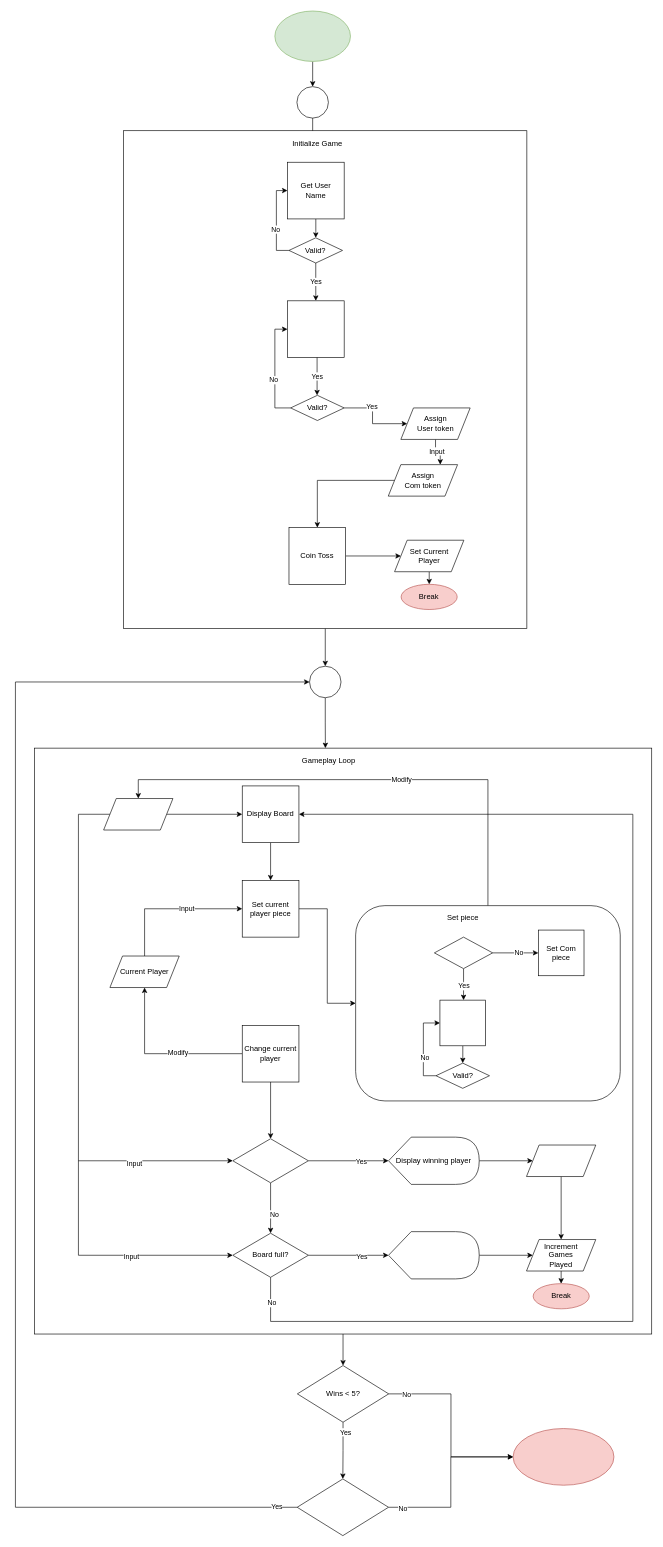
The diagram is 663 pixels wide and 1547 high, and some of its shapes have lost their labels. The centre of each missing label's shape, as x and y in pixels:
Board: [138,814]
Display tie: [433,1255]
End: [563,1456]
Get Player Token: [315,329]
Increment Wins: [561,1160]
Play again?: [343,1507]
Set user piece: [462,1022]
Start: [312,35]
User turn?: [463,952]
Win?: [270,1160]
